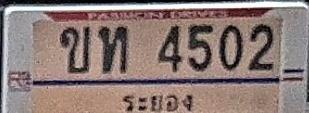0: (218, 24, 242, 70)
2: (248, 23, 273, 70)
4: (158, 24, 182, 72)
5: (188, 24, 213, 71)
A02: (60, 26, 90, 73)
A23: (98, 26, 128, 72)
RYG: (116, 91, 197, 113)
